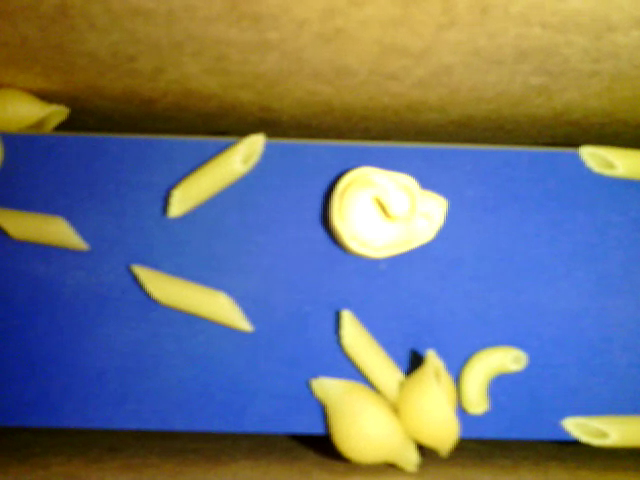elbow: (460, 347, 529, 419)
penne: (129, 262, 253, 333), (167, 132, 266, 218), (337, 307, 404, 407), (1, 210, 89, 254), (554, 415, 639, 447), (575, 143, 639, 180)
shell: (308, 375, 421, 470), (394, 347, 462, 454), (1, 88, 73, 133)
tortellini: (321, 164, 450, 260)
